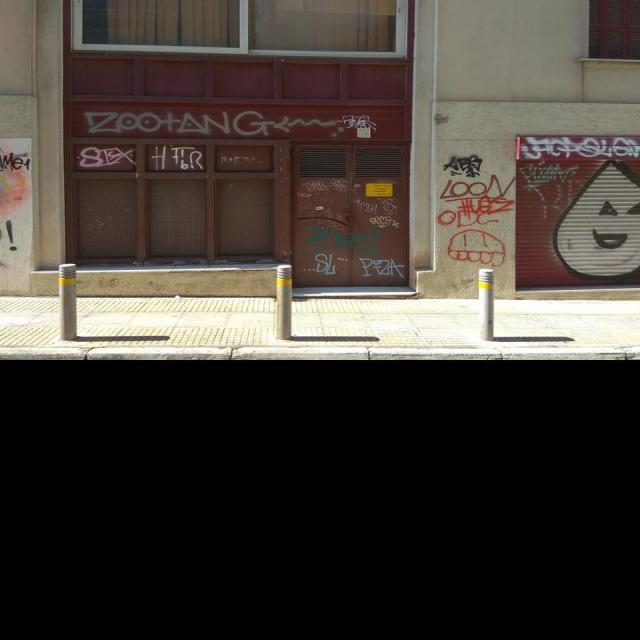nonspitting: (554, 160, 640, 278), (84, 108, 377, 139), (522, 136, 640, 158), (306, 253, 406, 278), (440, 174, 516, 204), (448, 230, 507, 268), (304, 226, 382, 253), (520, 161, 579, 186), (356, 196, 399, 228), (150, 146, 204, 171), (76, 146, 136, 167), (439, 210, 500, 227), (461, 195, 513, 214), (296, 180, 350, 198), (443, 154, 482, 176), (220, 154, 266, 164)
